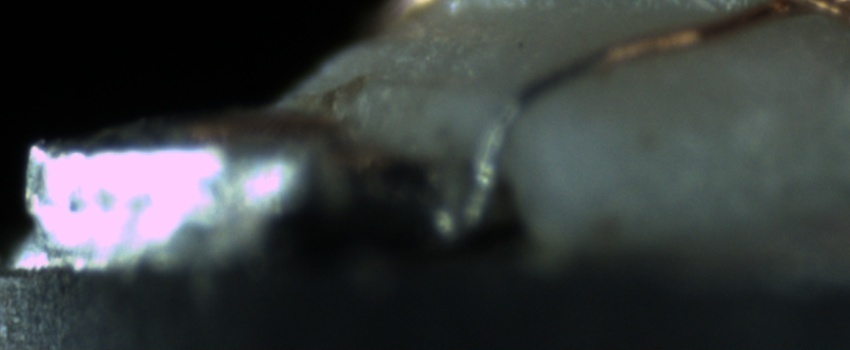CL: (745, 0, 845, 29)
TS: (454, 95, 522, 239)
